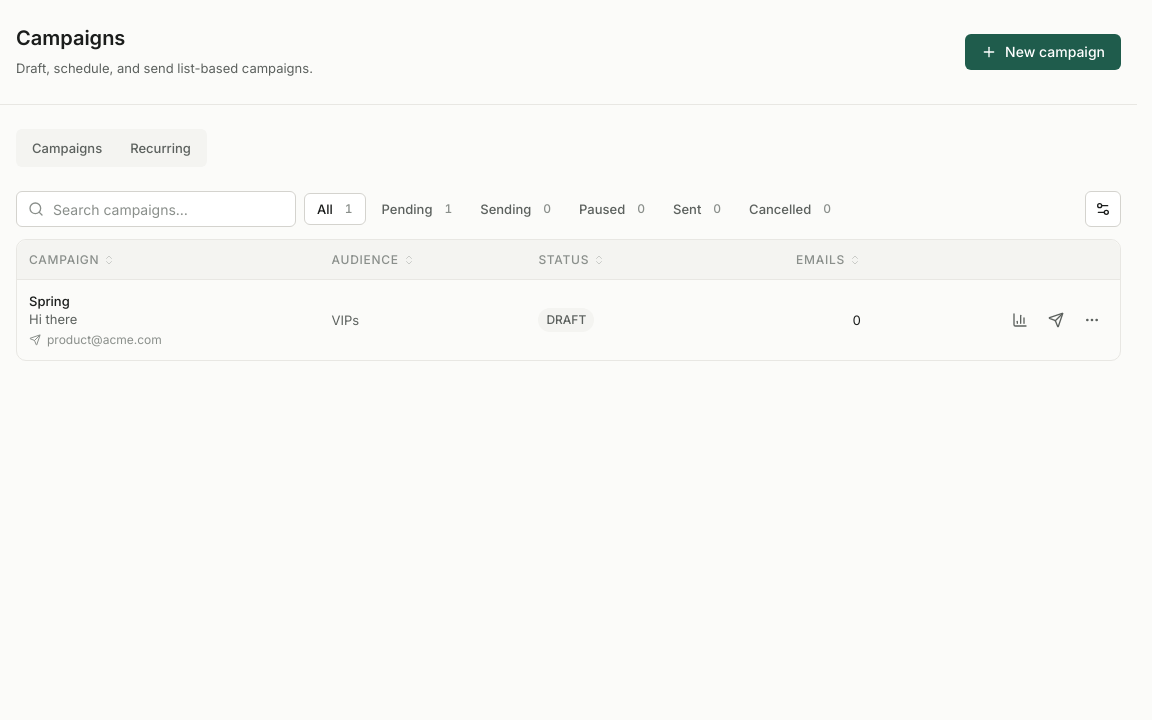
Scenario: Campaigns › reopens an edited campaign on the account it already uses
The width and height of the screenshot is (1152, 720).
Expected: the text "Spring" is shown, [29, 293, 70, 309]
Click the button named "More actions for Spring" at (1092, 320), box [1076, 304, 1108, 336]
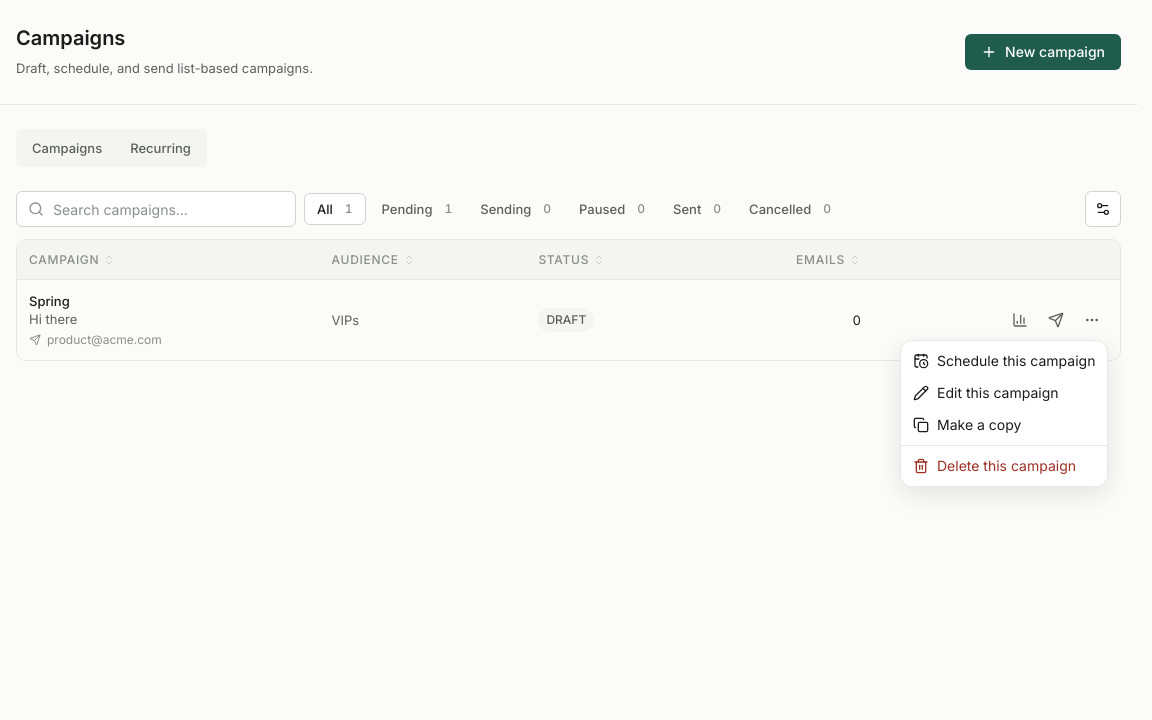
Click the menu item "Edit this campaign" at (986, 392), box [913, 384, 1059, 401]
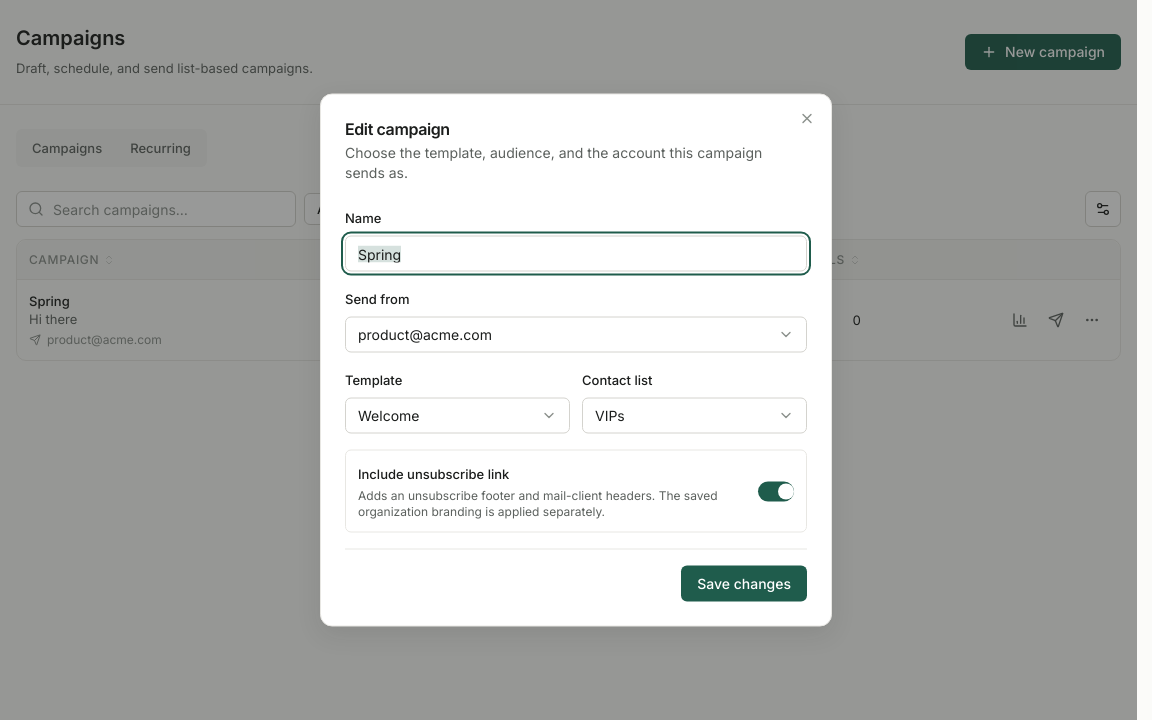
Now the dropdown labelled "product@acme.com" is shown, box [345, 316, 807, 352]
